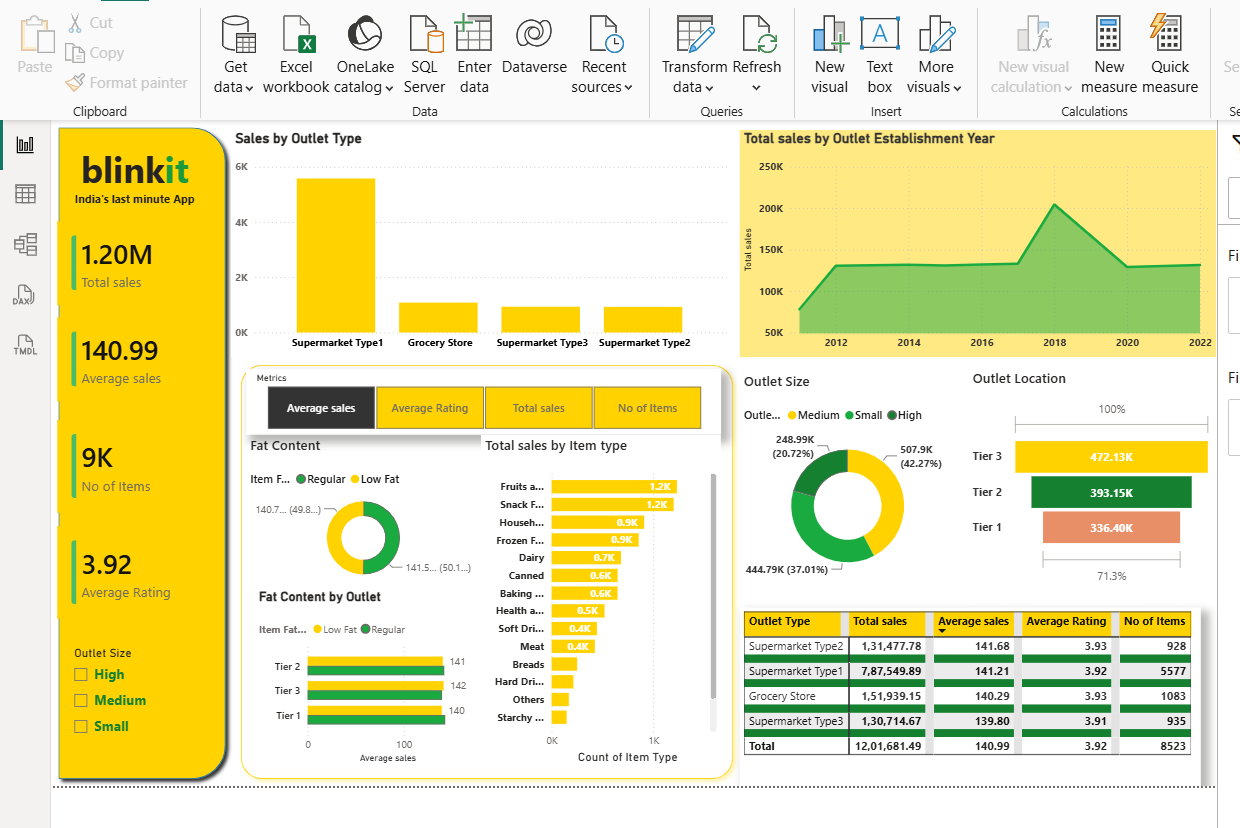

The page's visual inventory and layout, read from the dashboard file:
{"tool":"powerbi","page":{"name":"Page 2","canvas":[1400,800],"ordinal":0},"visuals":[{"type":"shape","box":[0,0,218.8,800.3],"z":0},{"type":"textbox","box":[0,24.5,201.1,137.2],"z":1000},{"type":"shape","box":[218.8,285.3,608.7,514.9],"z":3000},{"type":"donutChart","title":"Fat Content","fields":{"Category":["BlinkIT Grocery Data (2).Item Fat Content"],"Y":["BlinkIT Grocery Data (2).Average sales"]},"box":[234.1,378.2,282.2,184.6],"z":4000},{"type":"slicer","fields":{"Values":["Metrics.Metrics"]},"box":[233.7,298.9,570.7,78.8],"z":5000},{"type":"clusteredBarChart","title":"Fat Content by Outlet","fields":{"Category":["BlinkIT Grocery Data (2).Outlet Location Type"],"Series":["BlinkIT Grocery Data (2).Item Fat Content"],"Y":["BlinkIT Grocery Data (2).Average sales"]},"box":[244.6,562.5,271.7,214.7],"z":6000},{"type":"barChart","title":"Total sales by Item type","fields":{"Category":["BlinkIT Grocery Data (2).Item Type"],"Y":["CountNonNull(BlinkIT Grocery Data (2).Item Type)"]},"box":[516.3,378.2,288.2,399.2],"z":7000},{"type":"lineChart","fields":{"Category":["BlinkIT Grocery Data (2).Outlet Establishment Year"],"Y":["BlinkIT Grocery Data (2).Total sales"]},"box":[827,12,571.8,273.2],"z":8000},{"type":"donutChart","title":" Outlet Size","fields":{"Category":["BlinkIT Grocery Data (2).Outlet Size"],"Y":["BlinkIT Grocery Data (2).Total sales"]},"box":[827.5,301.6,259.5,260.9],"z":9000},{"type":"funnel","title":" Outlet Location ","fields":{"Category":["BlinkIT Grocery Data (2).Outlet Location Type"],"Y":["BlinkIT Grocery Data (2).Total sales"]},"box":[1101.9,298.9,297.6,263.6],"z":10000},{"type":"pivotTable","fields":{"Rows":["BlinkIT Grocery Data (2).Outlet Type"],"Values":["BlinkIT Grocery Data (2).Total sales","BlinkIT Grocery Data (2).Average sales","BlinkIT Grocery Data (2).Average Rating","BlinkIT Grocery Data (2).No of Items"]},"box":[827,585.3,553.8,214.6],"z":11000},{"type":"slicer","fields":{"Values":["BlinkIT Grocery Data (2).Outlet Size"]},"box":[15,625.9,186.1,133.6],"z":12000},{"type":"cardVisual","fields":{"Data":["BlinkIT Grocery Data (2).Total sales"]},"box":[7.5,121.6,186.1,100.6],"z":13000},{"type":"cardVisual","fields":{"Data":["BlinkIT Grocery Data (2).Average sales"]},"box":[7.5,237.1,186.1,100.6],"z":14000},{"type":"cardVisual","fields":{"Data":["BlinkIT Grocery Data (2).No of Items"]},"box":[7.5,360.2,186.1,111.1],"z":15000},{"type":"cardVisual","fields":{"Data":["BlinkIT Grocery Data (2).Average Rating"]},"box":[7.5,487.8,186.1,111.1],"z":16000},{"type":"columnChart","title":" Sales by Outlet Type","fields":{"Category":["BlinkIT Grocery Data (2).Outlet Type"],"Y":["CountNonNull(BlinkIT Grocery Data (2).Sales)"]},"box":[216.1,12,600.3,273.2],"z":17000}]}

Visuals, with their boxes on the page's 1400x800 design canvas (x1, y1, x2, y2). These are canvas units, not pixel positions in the 1240x828 screenshot, which may show the page scaled, cropped or inside an application window:
shape: Rect(0, 0, 219, 800)
textbox: Rect(0, 24, 201, 162)
shape: Rect(219, 285, 828, 800)
"Fat Content" donutChart: Rect(234, 378, 516, 563)
slicer - Metrics.Metrics: Rect(234, 299, 804, 378)
"Fat Content by Outlet" clusteredBarChart: Rect(245, 562, 516, 777)
"Total sales by Item type" barChart: Rect(516, 378, 804, 777)
lineChart - BlinkIT Grocery Data (2).Outlet Establishment Year x BlinkIT Grocery Data (2).Total sales: Rect(827, 12, 1399, 285)
" Outlet Size" donutChart: Rect(828, 302, 1087, 562)
" Outlet Location " funnel: Rect(1102, 299, 1400, 562)
pivotTable - BlinkIT Grocery Data (2).Outlet Type x BlinkIT Grocery Data (2).Total sales: Rect(827, 585, 1381, 800)
slicer - BlinkIT Grocery Data (2).Outlet Size: Rect(15, 626, 201, 760)
cardVisual - BlinkIT Grocery Data (2).Total sales: Rect(8, 122, 194, 222)
cardVisual - BlinkIT Grocery Data (2).Average sales: Rect(8, 237, 194, 338)
cardVisual - BlinkIT Grocery Data (2).No of Items: Rect(8, 360, 194, 471)
cardVisual - BlinkIT Grocery Data (2).Average Rating: Rect(8, 488, 194, 599)
" Sales by Outlet Type" columnChart: Rect(216, 12, 816, 285)
